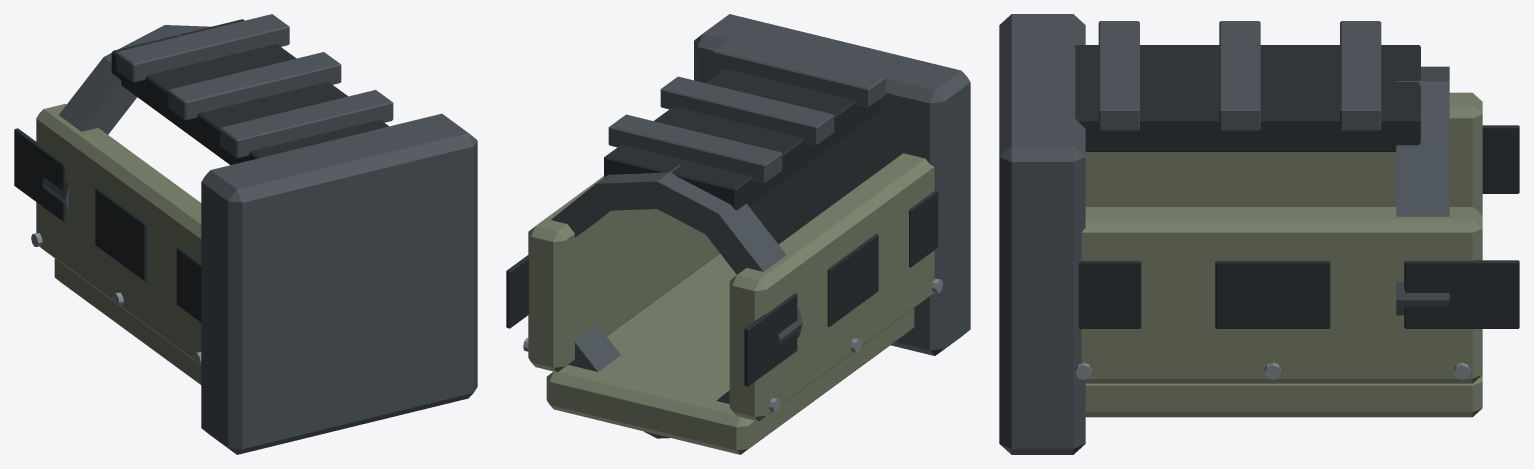
Rendered from weapon_swift9_handguard.glb.
The picture shows the model from 3 angles, left to right: view 1: azimuth 30°, elevation 25°; view 2: azimuth 150°, elevation 25°; view 3: azimuth 270°, elevation 25°; orthographic projection. The views are drawn at different scales.
Parts seen in each view (by area): view 1: Geometry_weapon_swift9_handguard; view 2: Geometry_weapon_swift9_handguard; view 3: Geometry_weapon_swift9_handguard.
Part boxes in pixels (bbox=[...]): Geometry_weapon_swift9_handguard: bbox=[14, 14, 477, 454]; Geometry_weapon_swift9_handguard: bbox=[506, 14, 970, 454]; Geometry_weapon_swift9_handguard: bbox=[999, 14, 1519, 454].
Size of the model in its own units: 0.0817 by 0.087 by 0.1265.
